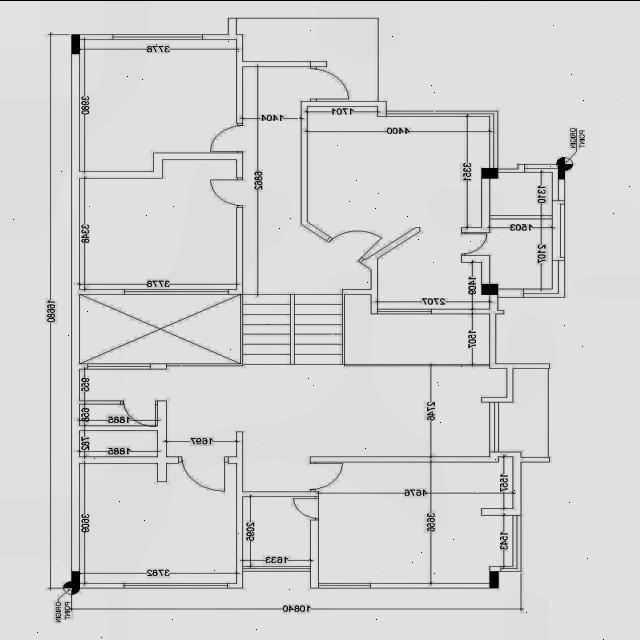Column: (482, 283, 498, 294), (489, 570, 498, 588), (72, 34, 80, 54), (482, 168, 498, 178), (72, 570, 80, 588), (558, 163, 565, 178)
Door: (326, 219, 385, 262), (178, 456, 228, 492), (311, 66, 348, 100), (209, 122, 243, 152), (310, 461, 344, 491), (210, 177, 243, 207), (120, 400, 158, 426), (293, 496, 319, 520), (462, 231, 488, 255)
Staircase: (243, 293, 342, 363)
Window: (552, 172, 565, 297), (386, 110, 498, 116), (124, 582, 228, 588), (124, 288, 228, 294), (113, 33, 203, 39), (513, 514, 521, 571), (489, 401, 498, 451), (490, 116, 498, 168), (88, 362, 150, 368), (378, 308, 432, 314), (524, 164, 558, 172), (242, 566, 310, 570), (318, 582, 371, 587), (524, 288, 552, 296), (500, 565, 512, 571)
